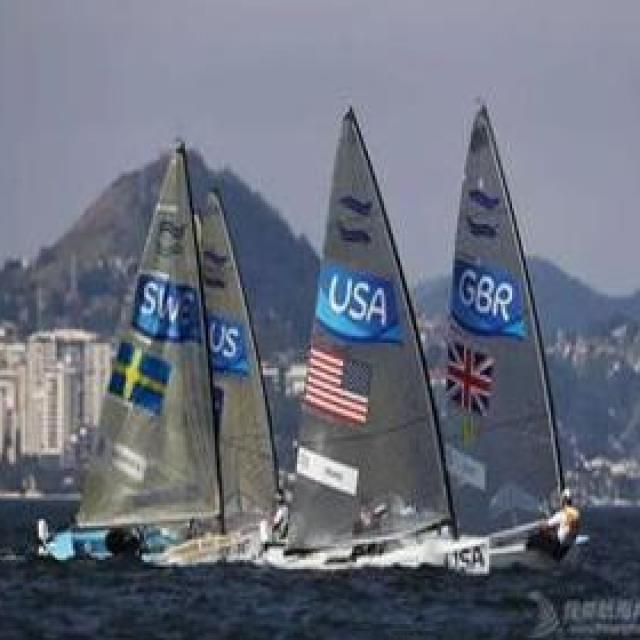sailboat: (276, 88, 467, 572), (411, 102, 604, 552), (68, 133, 232, 550), (178, 173, 282, 582)
